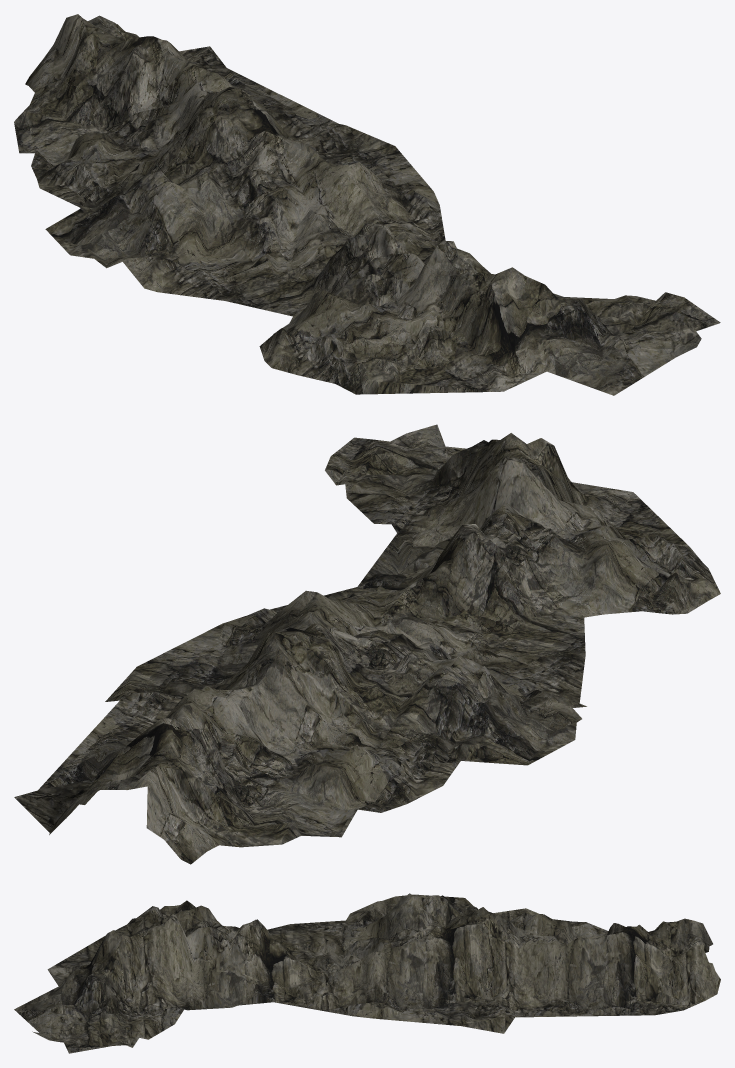
Rendered from SM_mid_mountain.FBX.
3 renders of one model, top to bottom at view 1: azimuth 30°, elevation 25°; view 2: azimuth 150°, elevation 25°; view 3: azimuth 270°, elevation 25°, orthographic. The views are drawn at different scales.
Parts seen in each view (by area): view 1: SM_mid_mountain; view 2: SM_mid_mountain; view 3: SM_mid_mountain.
Part boxes in pixels (<box>): SM_mid_mountain: <box>14,14,720,395</box>; SM_mid_mountain: <box>14,424,720,864</box>; SM_mid_mountain: <box>14,893,720,1053</box>.
Size of the model in its own units: 1375 by 296 by 2628.
